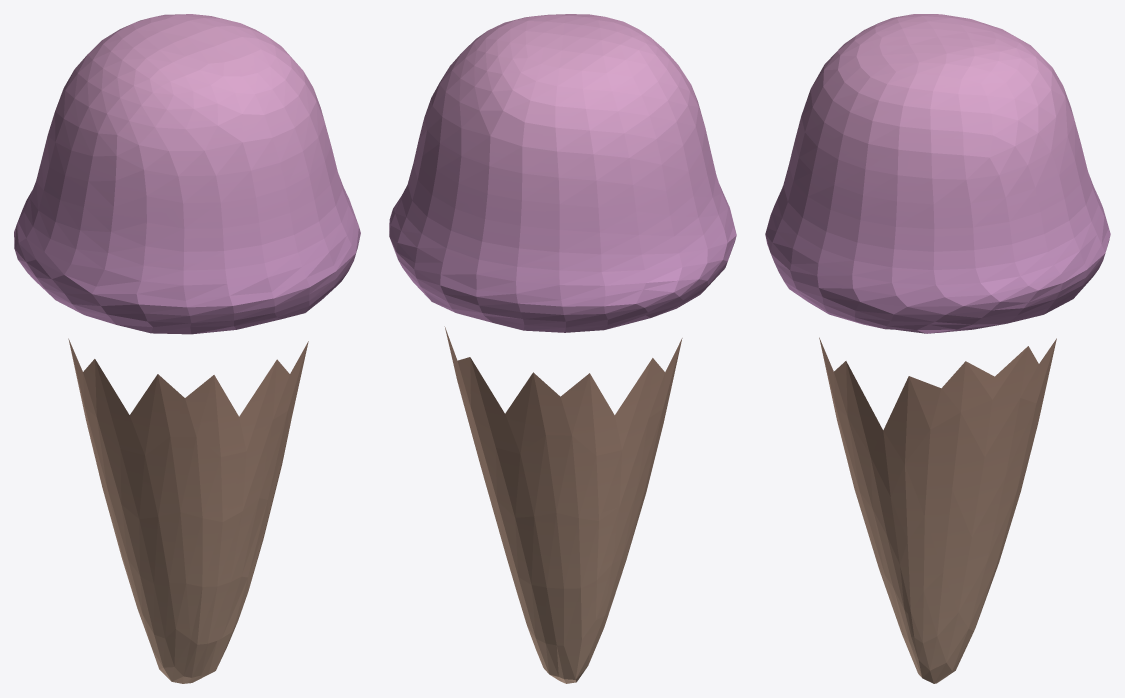
Rendered from ice-cream.glb.
3 renders of one model, left to right at view 1: azimuth 30°, elevation 25°; view 2: azimuth 150°, elevation 25°; view 3: azimuth 270°, elevation 25°, orthographic.
Bounding box in the file's own units: 0.3585 × 0.7454 × 0.362.
